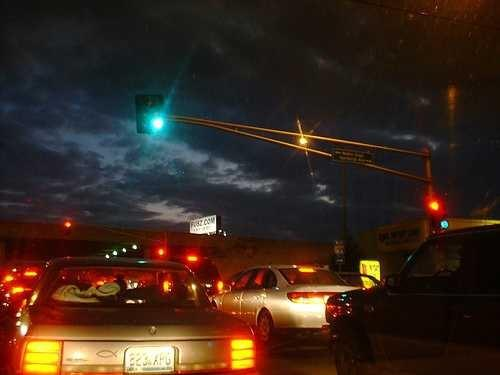green: (145, 91, 168, 137), (439, 218, 449, 232)
red: (426, 198, 440, 232)
